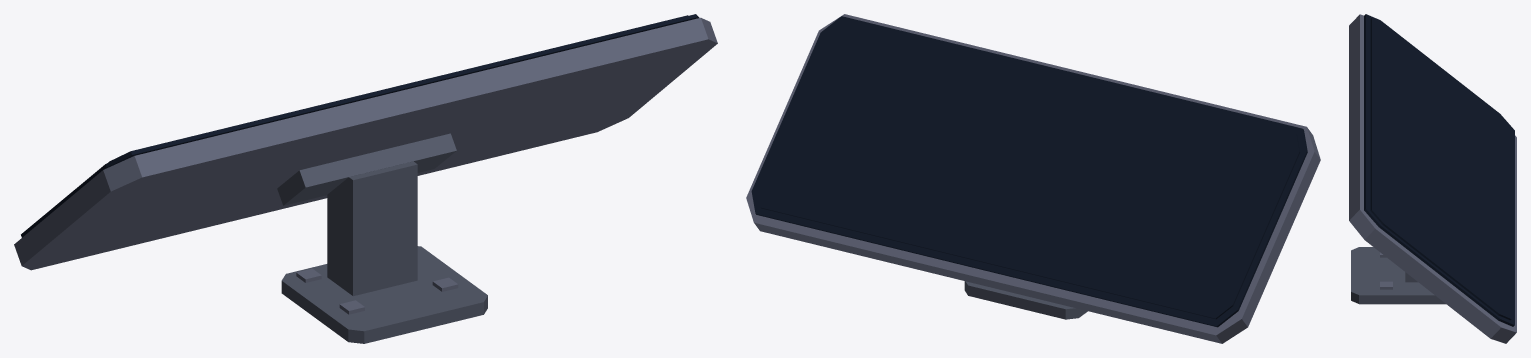
The model's file is nav_panel.glb.
The picture shows the model from 3 angles, left to right: view 1: azimuth 30°, elevation 25°; view 2: azimuth 150°, elevation 25°; view 3: azimuth 270°, elevation 25°; orthographic projection. The views are drawn at different scales.
Parts seen in each view (by area): view 1: single-piece low-poly chamfered console body, central rectangular pedestal support, chamfered floor mounting plate, angled top mounting bracket, inset black glass display surface, slightly raised dark screen insert; view 2: slightly raised dark screen insert, single-piece low-poly chamfered console body, inset black glass display surface, chamfered floor mounting plate; view 3: slightly raised dark screen insert, single-piece low-poly chamfered console body, chamfered floor mounting plate, inset black glass display surface.
Boxes of the visible parts, left/top/right/bottom form: single-piece low-poly chamfered console body: left=14, top=17, right=717, bottom=270; central rectangular pedestal support: left=327, top=161, right=417, bottom=296; chamfered floor mounting plate: left=281, top=246, right=487, bottom=343; angled top mounting bracket: left=277, top=133, right=456, bottom=205; inset black glass display surface: left=21, top=14, right=699, bottom=237; slightly raised dark screen insert: left=108, top=15, right=687, bottom=162; slightly raised dark screen insert: left=757, top=22, right=1300, bottom=319; single-piece low-poly chamfered console body: left=746, top=14, right=1320, bottom=343; inset black glass display surface: left=751, top=16, right=1307, bottom=327; chamfered floor mounting plate: left=964, top=281, right=1087, bottom=319; slightly raised dark screen insert: left=1370, top=18, right=1511, bottom=320; single-piece low-poly chamfered console body: left=1349, top=14, right=1516, bottom=343; chamfered floor mounting plate: left=1351, top=247, right=1445, bottom=304; inset black glass display surface: left=1364, top=14, right=1514, bottom=326.
Size of the model in its own units: 5.99 by 2.25 by 2.03.
